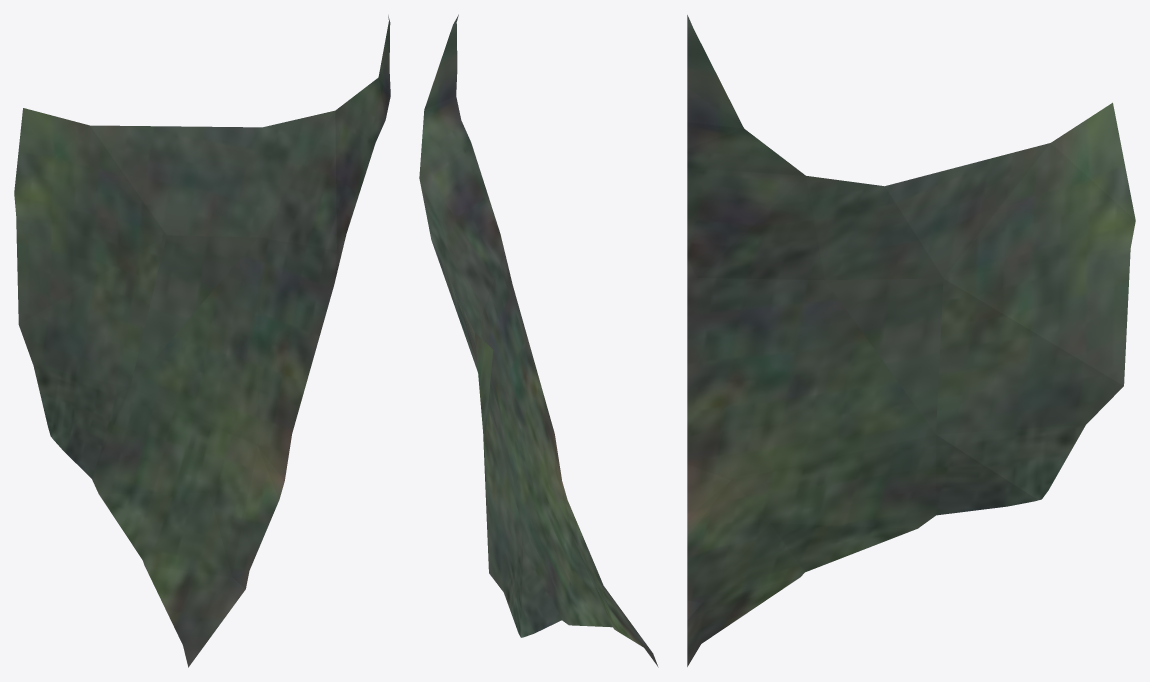
File: Tile_+004_+006_L21_0000000.glb
3 views of the same model, side by side, from view 1: azimuth 30°, elevation 25°; view 2: azimuth 150°, elevation 25°; view 3: azimuth 270°, elevation 25° (orthographic). The views are drawn at different scales.
Parts seen in each view (by area): view 1: rtc; view 2: rtc; view 3: rtc.
Part boxes in pixels (x1,y1,x2,y2): rtc: [14, 15, 390, 667]; rtc: [419, 14, 658, 667]; rtc: [687, 15, 1135, 666].
Bounding box in the file's own units: 5.51 × 15.01 × 7.83.
Materials: 1 (1 with a texture image).
